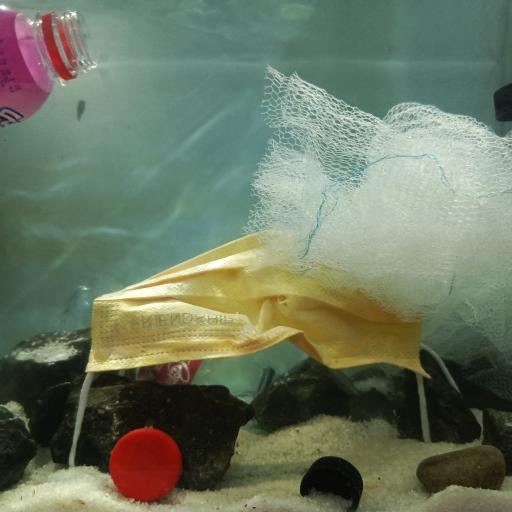bottle_cap: (110, 426, 183, 502), (298, 455, 364, 512), (493, 82, 512, 122)
mask: (75, 226, 445, 386)
net: (246, 58, 512, 400)
plastic_bottle: (68, 278, 282, 399), (0, 7, 100, 132)
